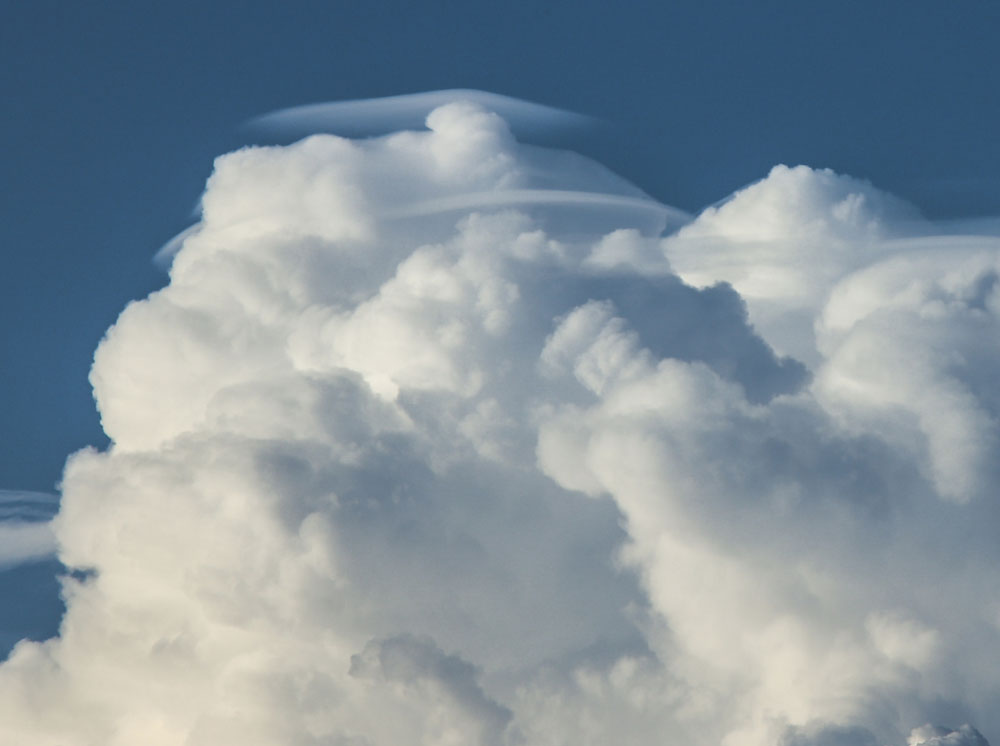Cumulus: (51, 46, 703, 746), (548, 288, 999, 743)
